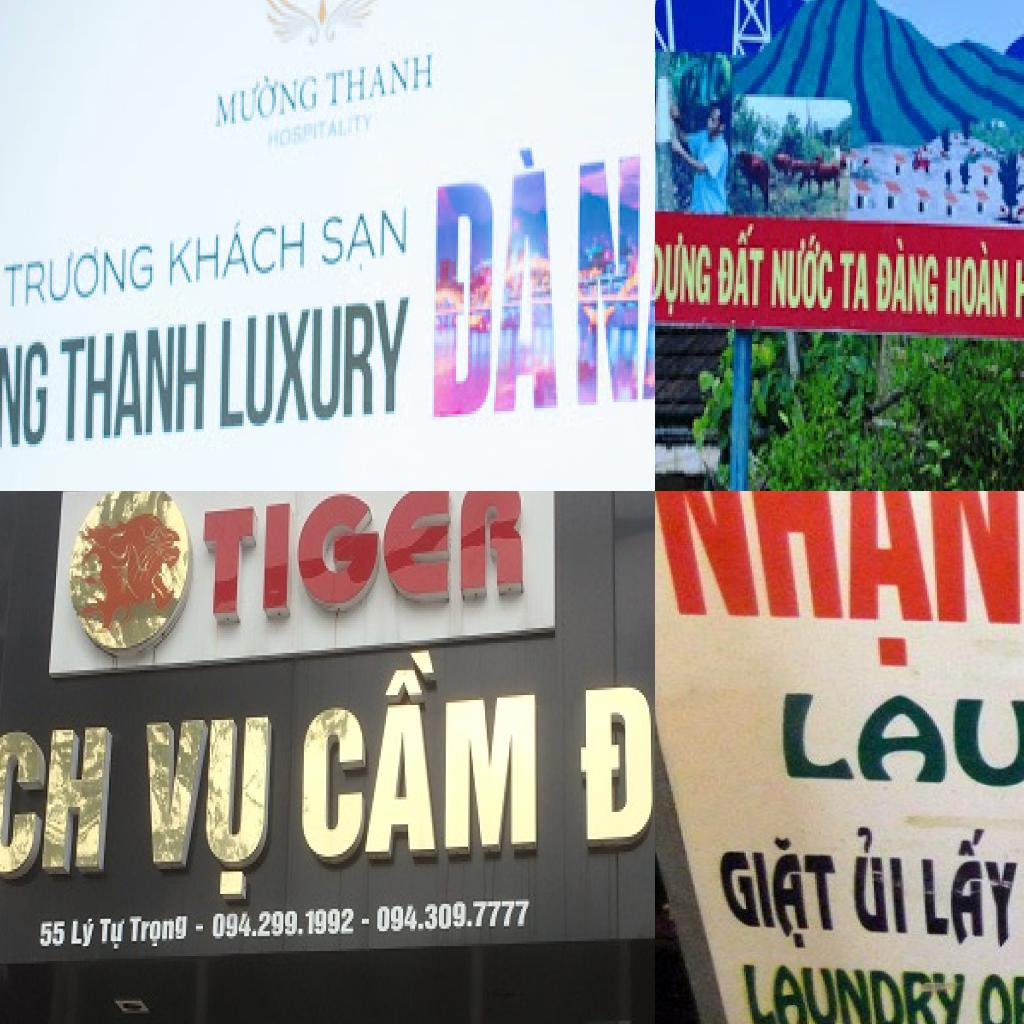text: (655, 491, 1024, 680), (300, 643, 542, 864), (199, 491, 527, 628), (434, 145, 562, 420), (764, 683, 1024, 804), (220, 294, 412, 432), (145, 715, 275, 904), (0, 727, 114, 916), (60, 321, 208, 447), (579, 625, 655, 851), (708, 831, 840, 949), (738, 960, 972, 1024), (913, 826, 1024, 950), (168, 208, 308, 288), (4, 240, 156, 310), (846, 826, 910, 937), (0, 321, 50, 461), (216, 66, 320, 132), (320, 202, 410, 276), (322, 52, 436, 109), (768, 230, 836, 317), (872, 239, 940, 326), (944, 242, 1012, 323), (208, 908, 357, 944), (655, 229, 712, 323), (376, 901, 534, 934), (266, 112, 376, 154), (714, 224, 766, 311), (126, 914, 193, 954), (836, 251, 874, 320), (97, 916, 130, 954), (70, 916, 100, 951), (39, 921, 70, 949)
